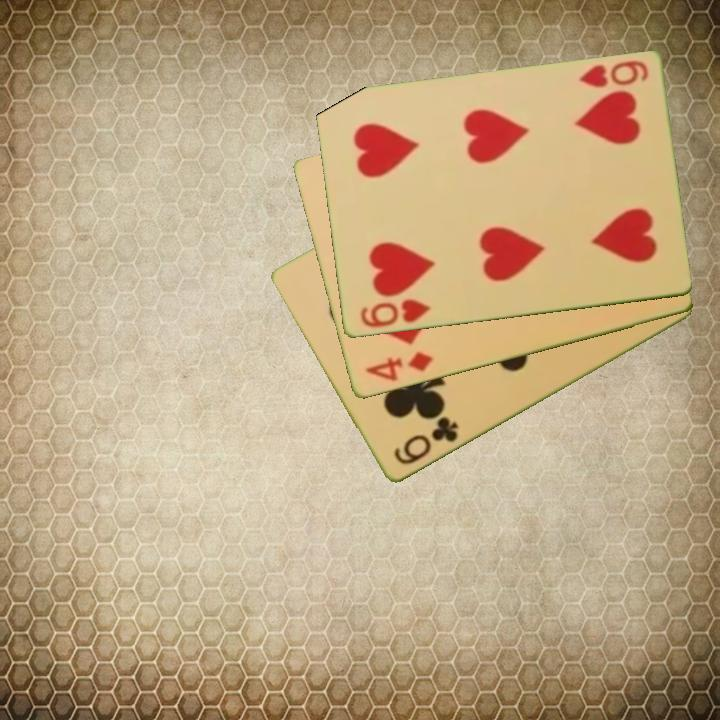4d: (361, 349, 435, 385)
6c: (390, 413, 461, 469)
6h: (356, 296, 433, 331), (575, 57, 651, 92)
